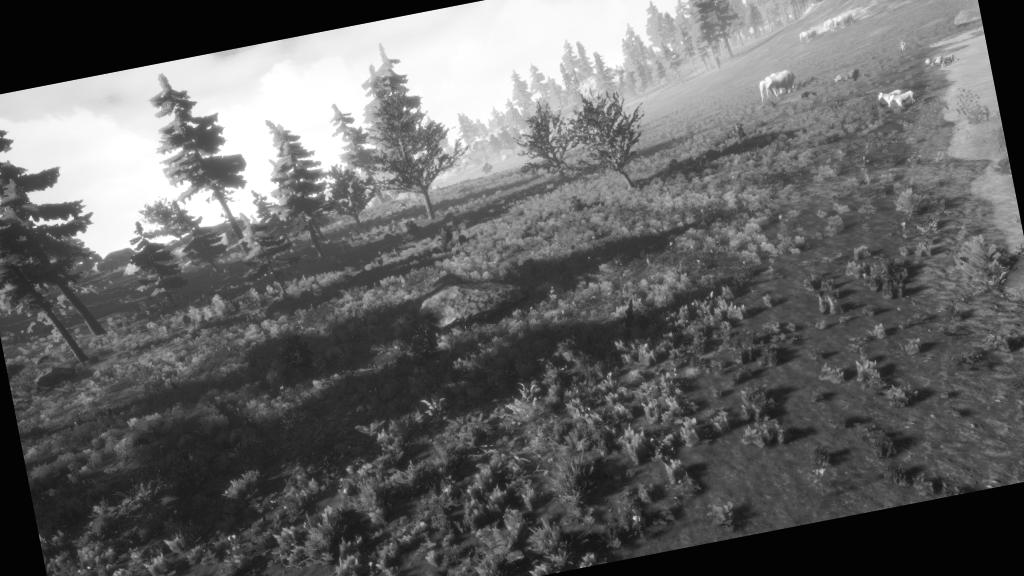Fire: (404, 182, 428, 202)
elephant: (755, 64, 801, 104), (830, 11, 856, 32), (795, 26, 820, 45), (821, 14, 843, 32)
hippopotamus: (832, 66, 862, 88)
human: (896, 37, 908, 54)
lion: (931, 51, 958, 72), (924, 52, 946, 71)
zebra: (886, 86, 920, 112), (873, 84, 905, 110)
